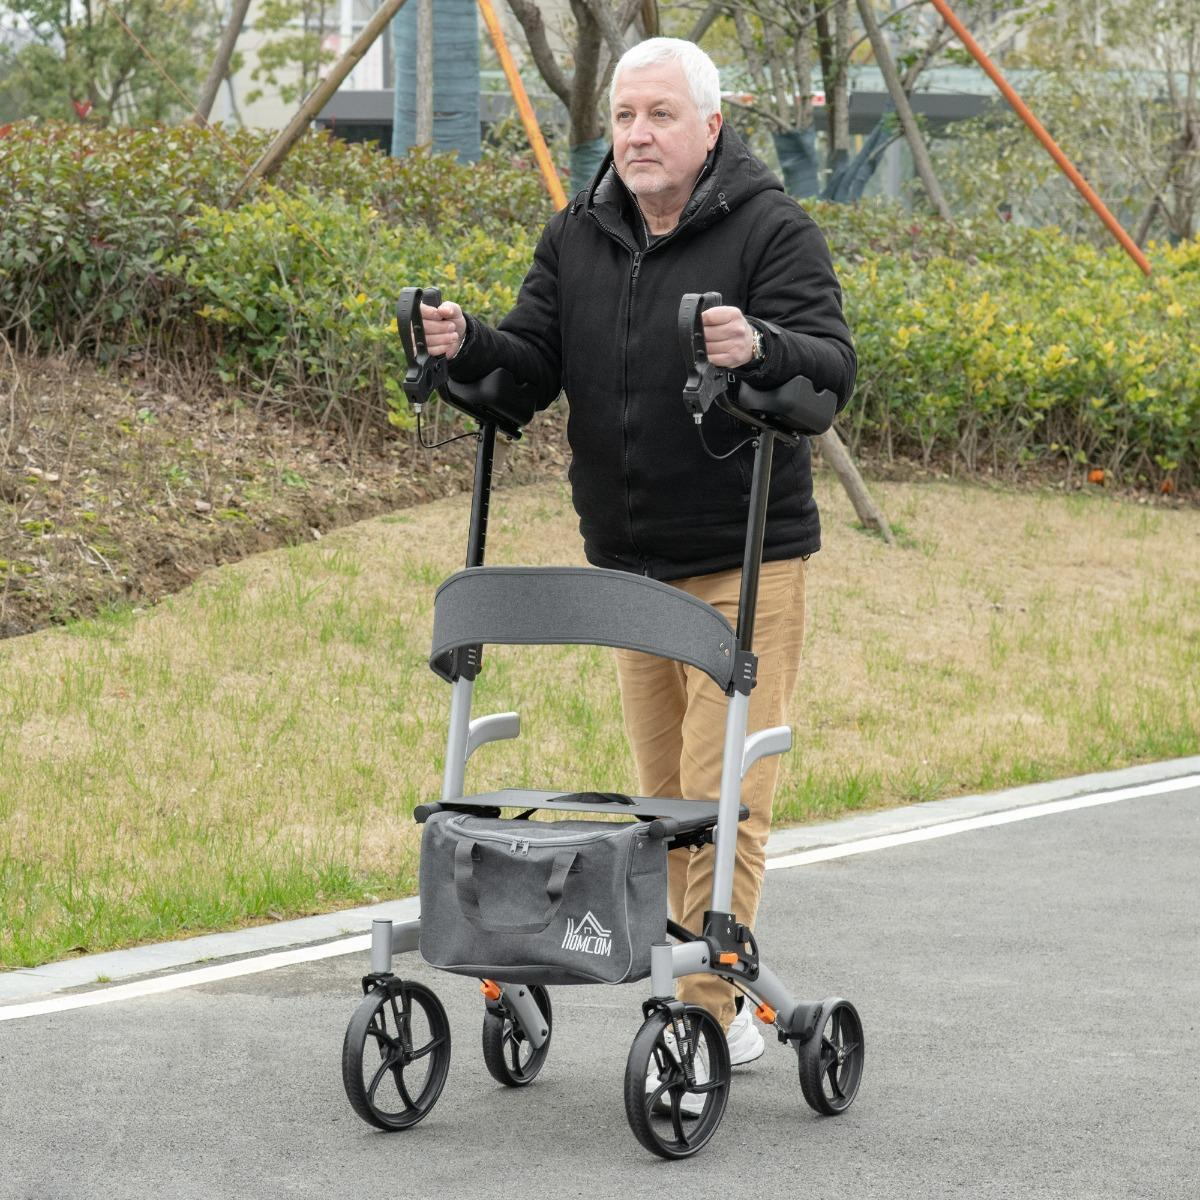walking_frame: (341, 35, 865, 1162)
